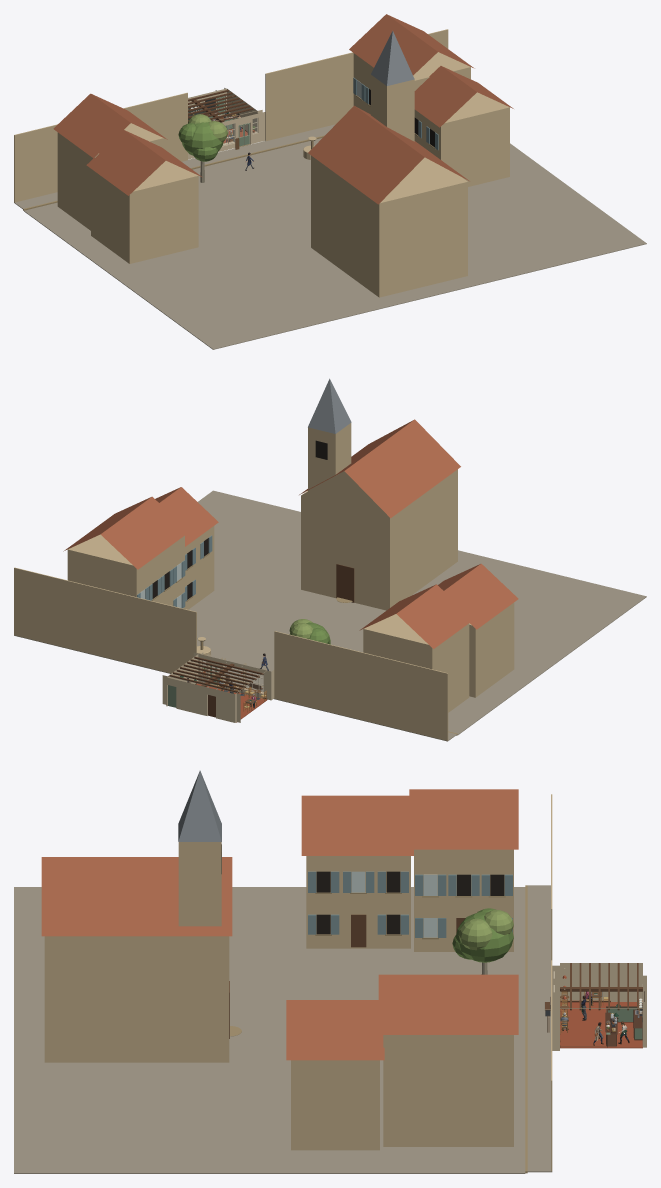
Rendered from cafe_A.glb.
3 renders of one model, top to bottom at view 1: azimuth 30°, elevation 25°; view 2: azimuth 150°, elevation 25°; view 3: azimuth 270°, elevation 25°, orthographic. The views are drawn at different scales.
Visible parts, largest first — view 1: cafe_static; view 2: cafe_static; view 3: cafe_static.
Boxes of the visible parts, <box> form: cafe_static: <box>14,14,646,349</box>; cafe_static: <box>14,378,646,741</box>; cafe_static: <box>14,770,646,1173</box>.
Bounding box in the file's own units: 44 × 20.2 × 41.15.
5 materials, 3 textured.
